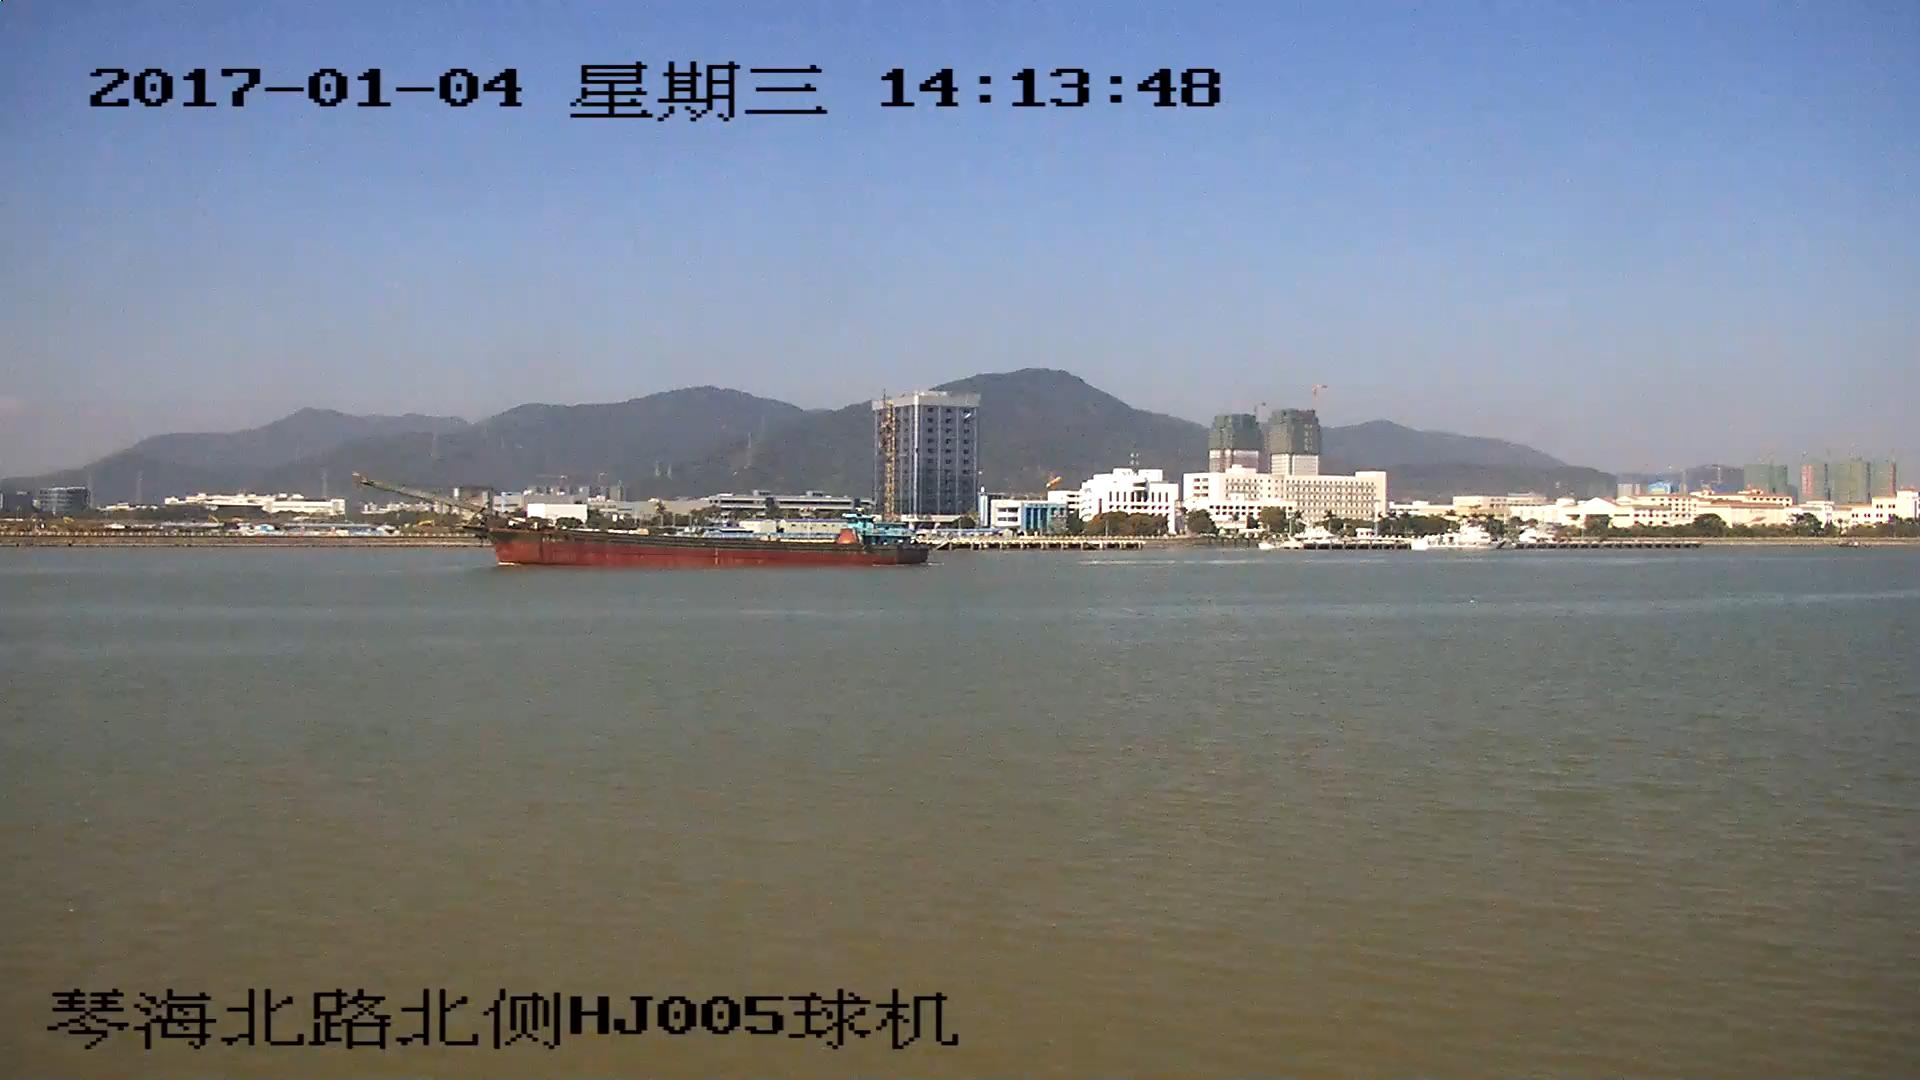bulk cargo carrier: (366, 480, 927, 568)
